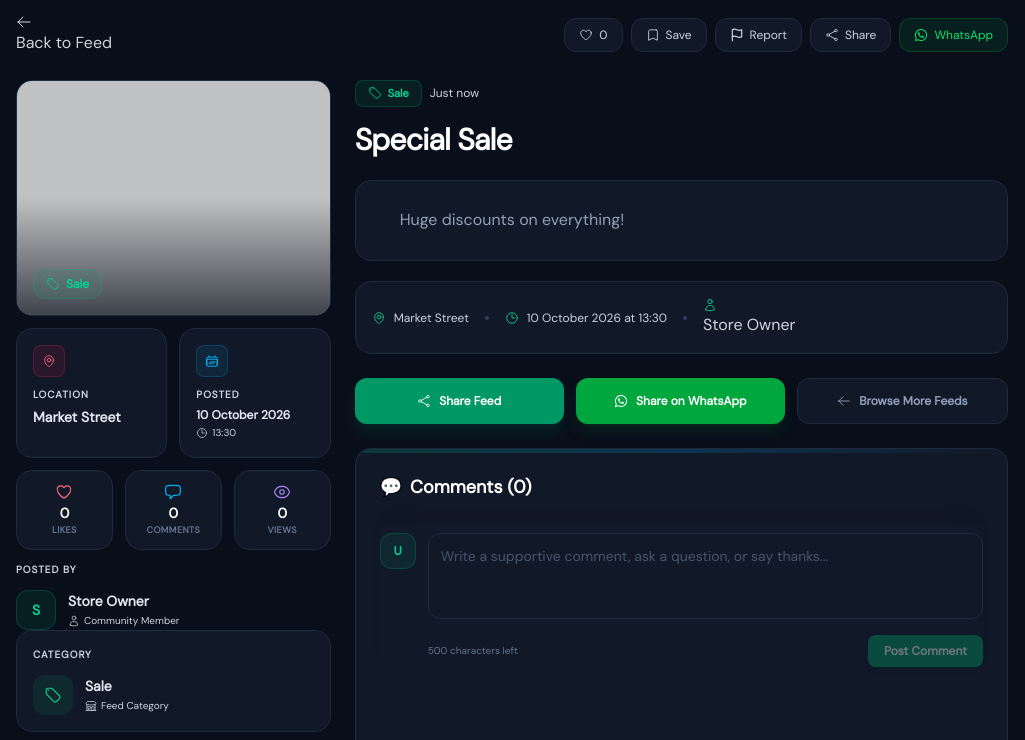
Scenario: FeedDetails Page › handles sharing a feed link
Expected: the heading "Special Sale" is shown, x1=355 y1=120 x2=512 y2=159
Click the button with aria-label "Copy link to clipboard": coordinates (851, 35) x1=810 y1=18 x2=891 y2=52
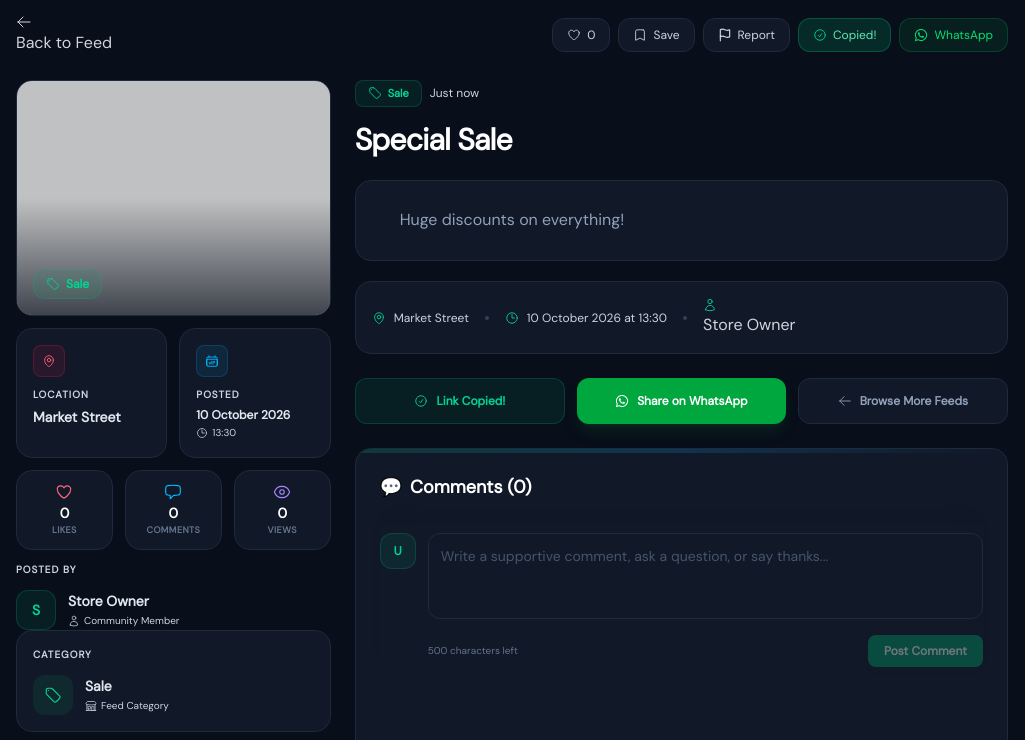
Now the button "Copied!" is shown, box x1=798 y1=18 x2=891 y2=52
